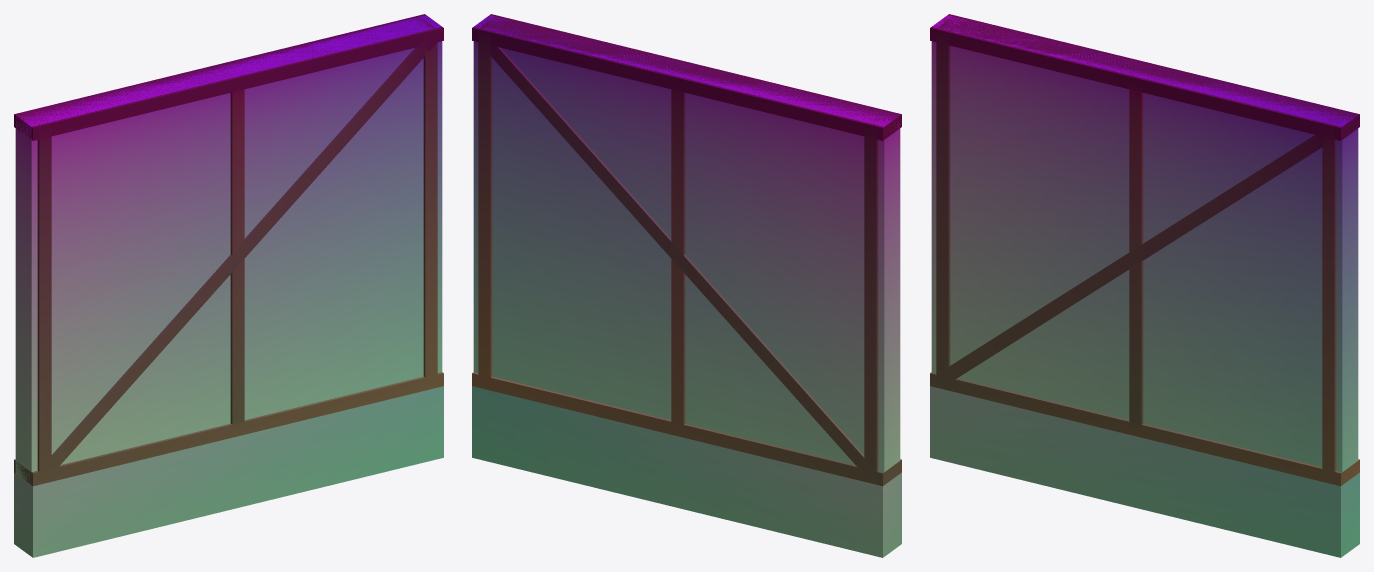
File: burg_wall_3m.glb
3 views of the same model, side by side, from view 1: azimuth 30°, elevation 25°; view 2: azimuth 150°, elevation 25°; view 3: azimuth 330°, elevation 25° (orthographic).
Parts seen in each view (by area): view 1: plaster, timbers, base_course; view 2: plaster, timbers, base_course; view 3: plaster, timbers, base_course.
Boxes of the visible parts, bbox=[...] form: plaster: bbox=[15, 15, 442, 482]; timbers: bbox=[14, 14, 443, 486]; base_course: bbox=[14, 386, 443, 557]; plaster: bbox=[473, 15, 900, 472]; timbers: bbox=[472, 14, 901, 486]; base_course: bbox=[472, 386, 901, 557]; plaster: bbox=[931, 15, 1358, 472]; timbers: bbox=[930, 14, 1359, 486]; base_course: bbox=[930, 386, 1359, 557].
Bounding box in the file's own units: 3 × 3 × 0.24.
